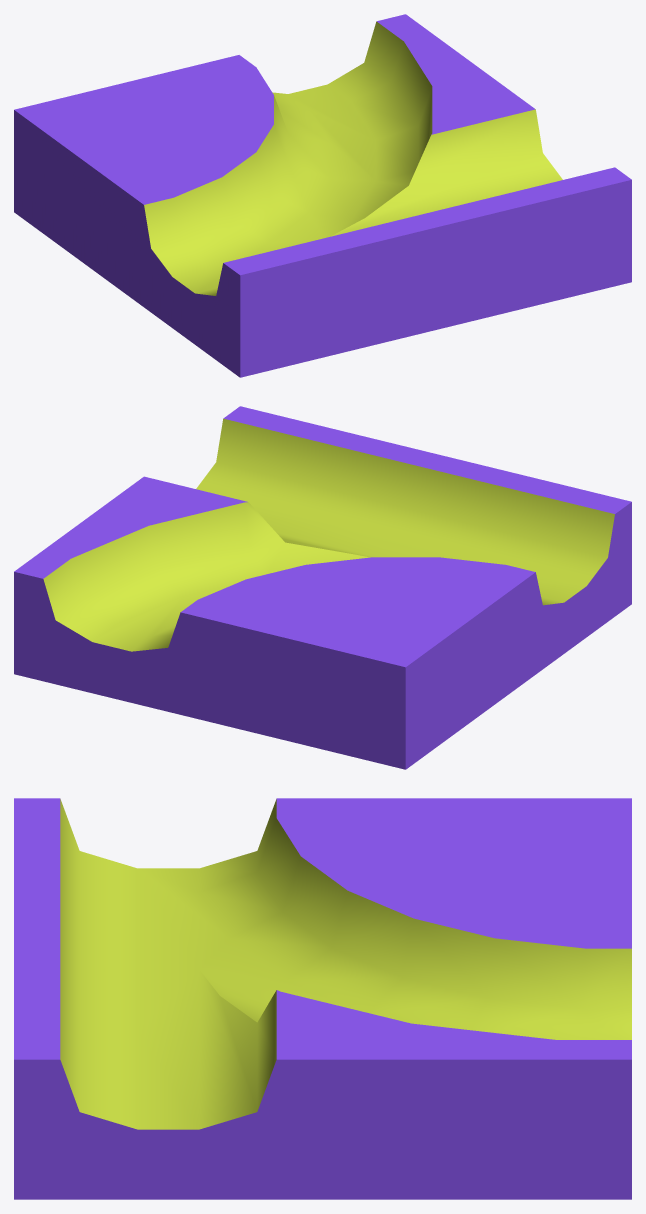
File: split_solid_left.fbx
The picture shows the model from 3 angles, top to bottom: view 1: azimuth 30°, elevation 25°; view 2: azimuth 150°, elevation 25°; view 3: azimuth 270°, elevation 25°; orthographic projection. The views are drawn at different scales.
Parts seen in each view (by area): view 1: split_solid_left; view 2: split_solid_left; view 3: split_solid_left.
Part boxes in pixels (left/top/right/bottom): split_solid_left: left=14, top=14, right=631, bottom=377; split_solid_left: left=14, top=406, right=631, bottom=769; split_solid_left: left=14, top=798, right=631, bottom=1199.
Size of the model in its own units: 20 by 5 by 20.
